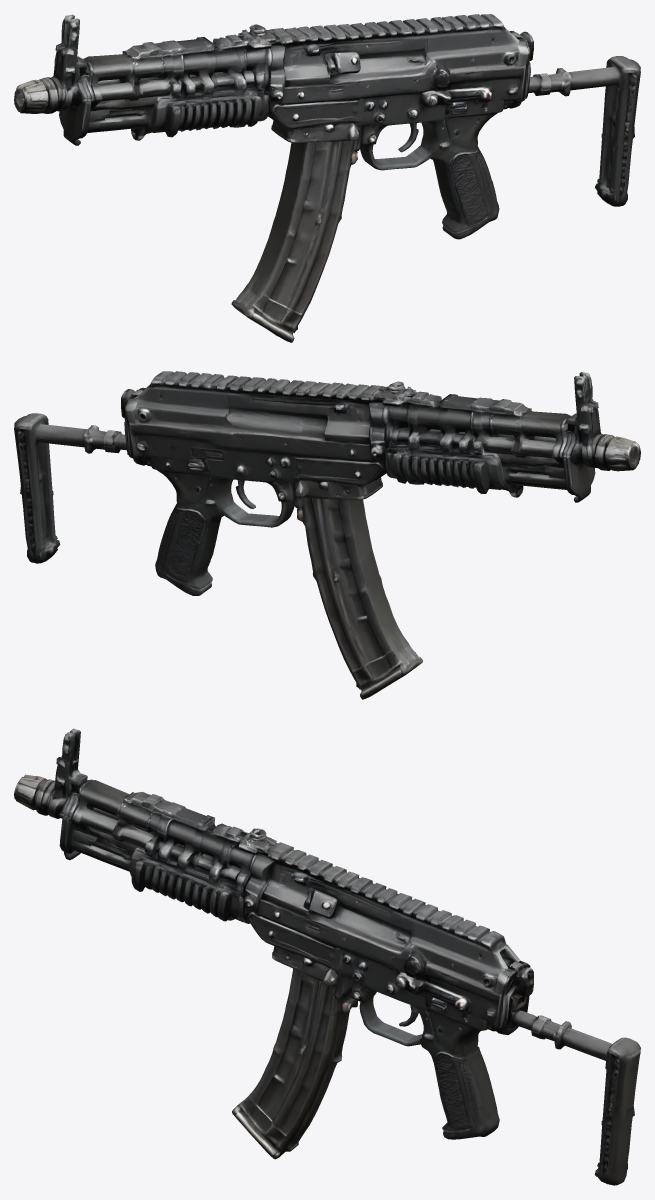
The model's file is rn_kurz5.glb.
3 renders of one model, top to bottom at view 1: azimuth 30°, elevation 25°; view 2: azimuth 150°, elevation 25°; view 3: azimuth 330°, elevation 25°, orthographic.
Parts seen in each view (by area): view 1: tripo_node_cbeeee1a-bb92-4bff-ab52-7402c3bcf312; view 2: tripo_node_cbeeee1a-bb92-4bff-ab52-7402c3bcf312; view 3: tripo_node_cbeeee1a-bb92-4bff-ab52-7402c3bcf312.
Boxes of the visible parts, left/top/right/bottom form: tripo_node_cbeeee1a-bb92-4bff-ab52-7402c3bcf312: left=14, top=14, right=640, bottom=342; tripo_node_cbeeee1a-bb92-4bff-ab52-7402c3bcf312: left=14, top=371, right=640, bottom=699; tripo_node_cbeeee1a-bb92-4bff-ab52-7402c3bcf312: left=14, top=728, right=640, bottom=1185.
Bounding box in the file's own units: 0.9806 × 0.5618 × 0.1146.
Materials: 1 (1 with a texture image).
